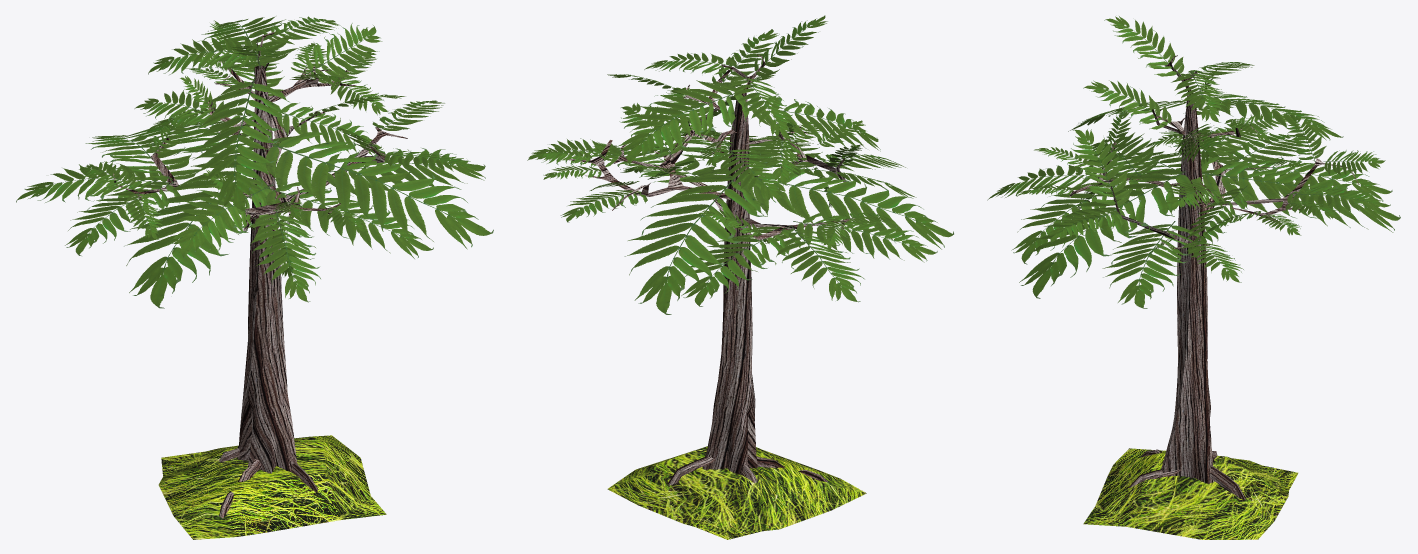
File: Environment.Trees.01.fbx
3 views of the same model, side by side, from view 1: azimuth 30°, elevation 25°; view 2: azimuth 150°, elevation 25°; view 3: azimuth 270°, elevation 25° (orthographic). The views are drawn at different scales.
Visible parts, largest first — view 1: GreenTree; view 2: GreenTree; view 3: GreenTree.
Part boxes in pixels (<box>): GreenTree: <box>16,16,493,539</box>; GreenTree: <box>527,15,953,539</box>; GreenTree: <box>987,16,1400,539</box>.
Size of the model in its own units: 550 by 629 by 523.
